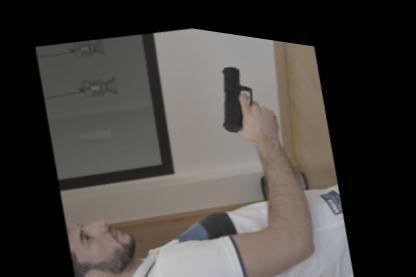pistol: (208, 47, 282, 132)
